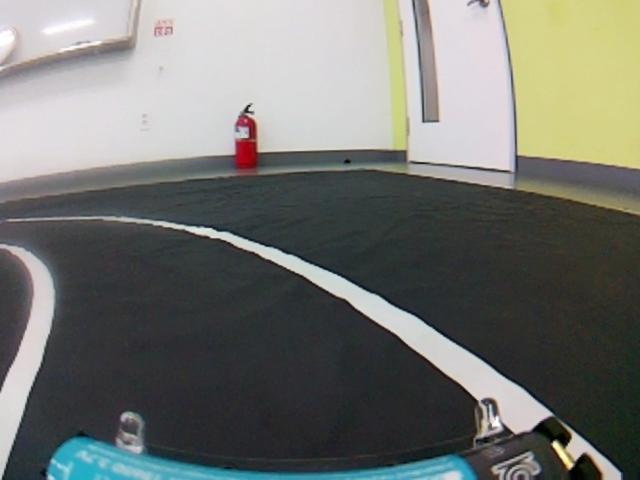straight: (0, 199, 639, 478)
